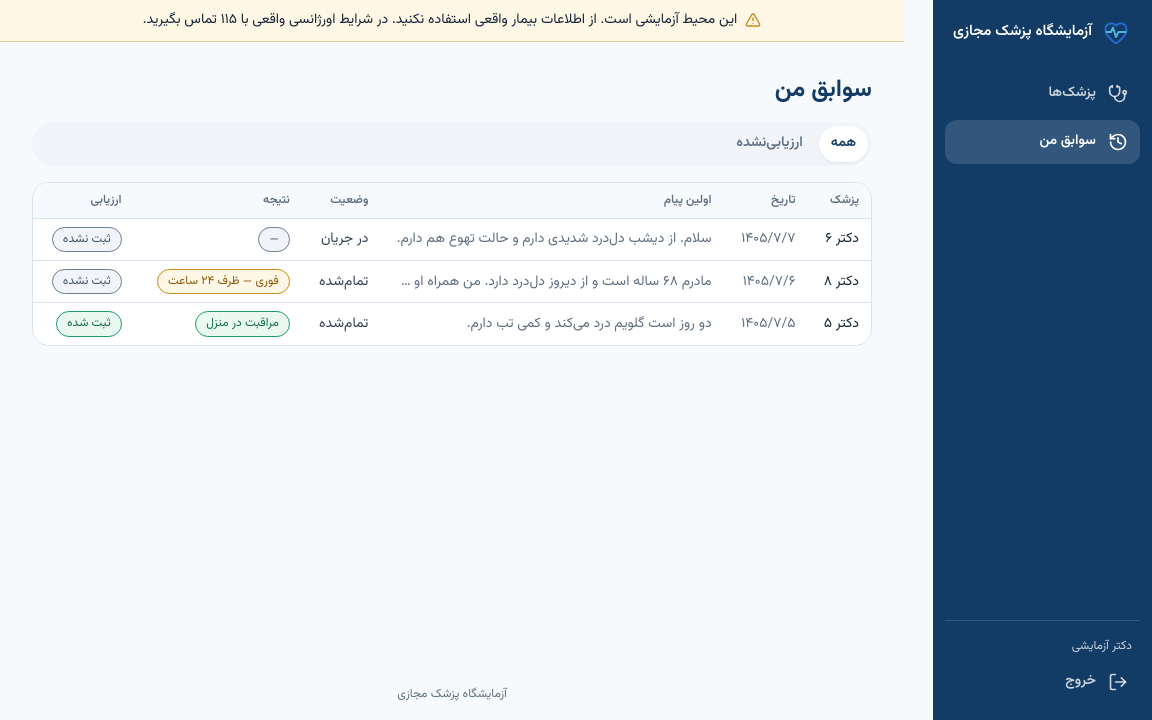
it: my sessions › keeps the active fixture reachable from its row
This screenshot has width=1152, height=720.
Check: the table with test id "history-table" is shown, box 33,183 -> 871,345
Click the link with test id "history-row" that starts with "دکتر ۶" at (452, 240), box 33,219 -> 871,261
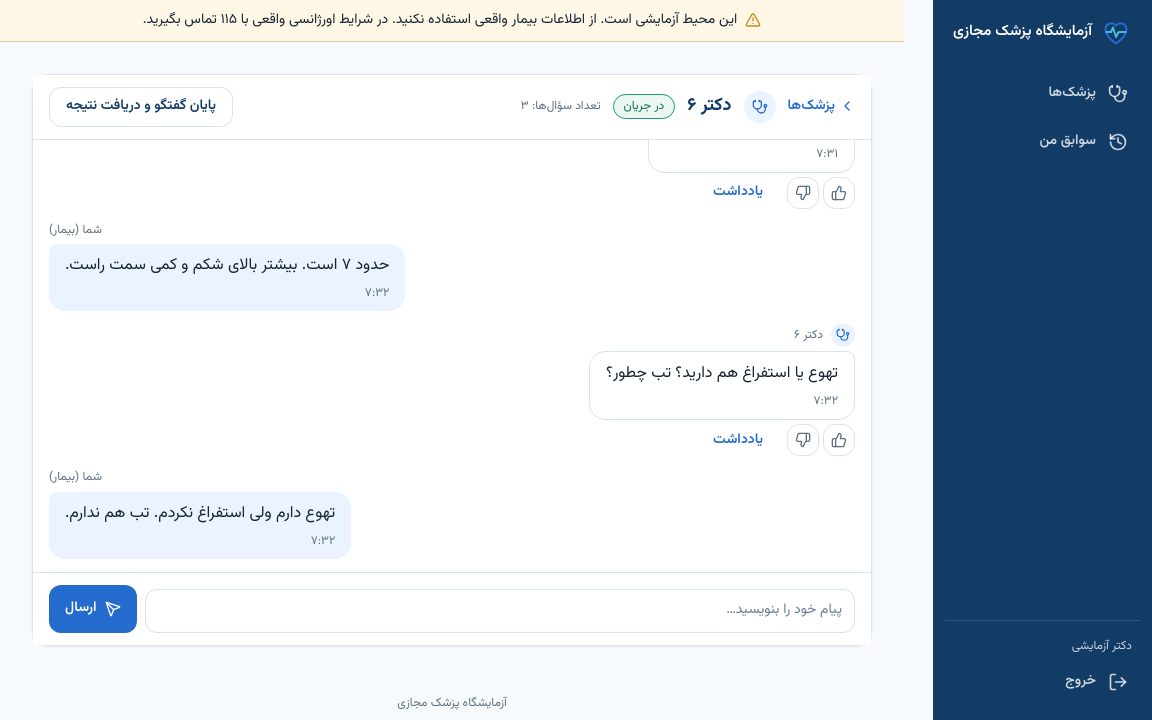
Check: the text "تعداد سؤال‌ها: ۳" is shown, box 521,97 -> 601,116
Check: the text box labelled "پیام خود را بنویسید…" is shown, box 145,588 -> 855,632
